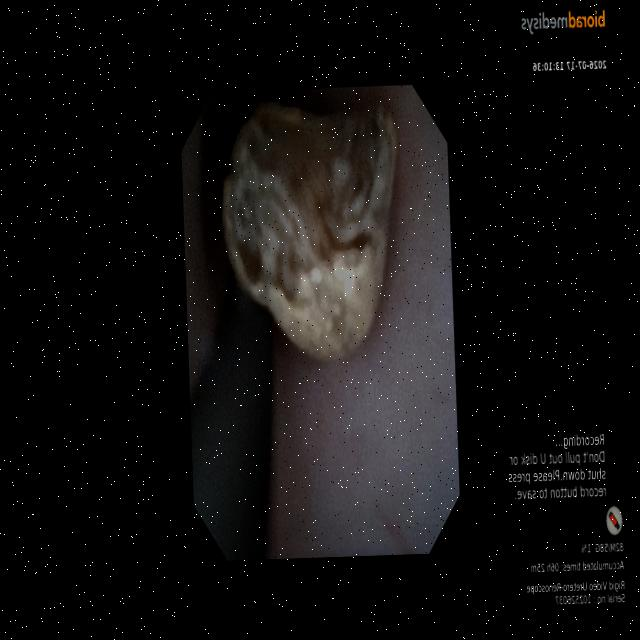stone-new: (223, 103, 396, 358)
